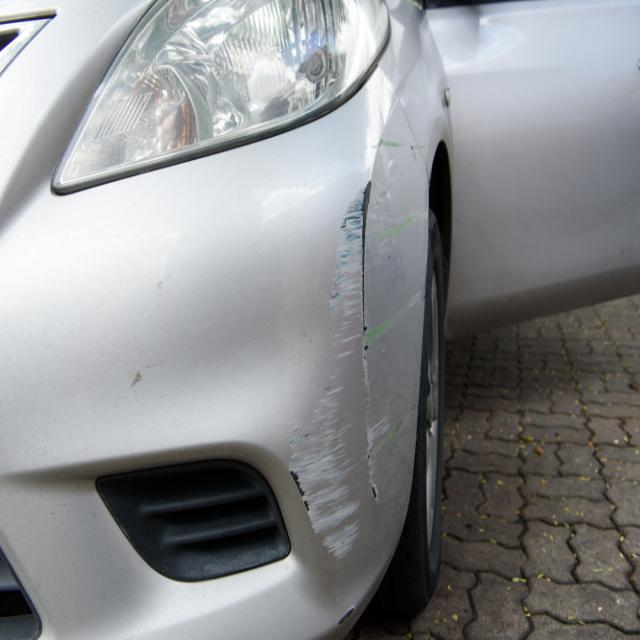scratch: (286, 138, 428, 562), (338, 603, 357, 627)
